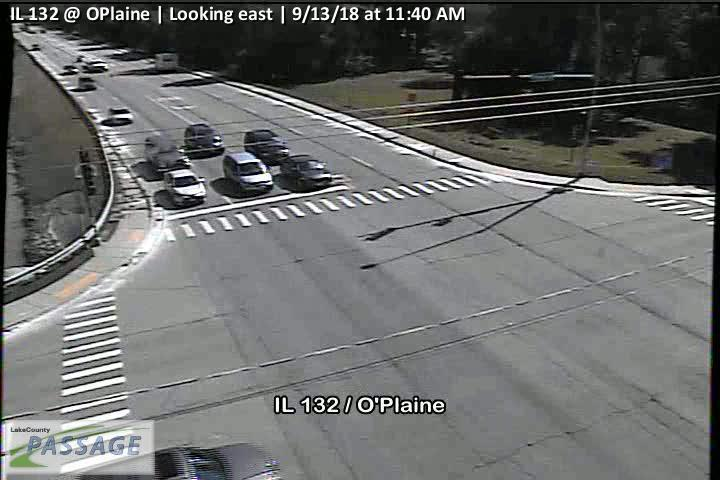SUV: (44, 444, 279, 480), (223, 151, 274, 196), (184, 123, 225, 160), (244, 130, 289, 163), (84, 57, 108, 72)
Sedan: (281, 154, 332, 189), (164, 168, 207, 208), (109, 106, 134, 123), (79, 78, 96, 90)
Truck: (155, 53, 177, 72)
